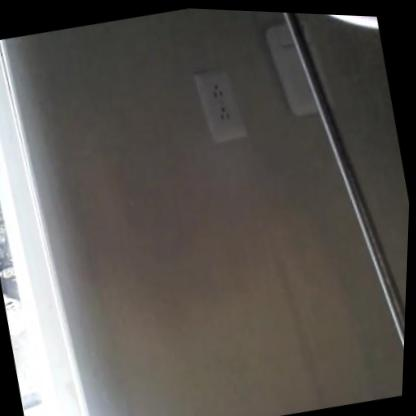OUTLET: (194, 66, 249, 148)
